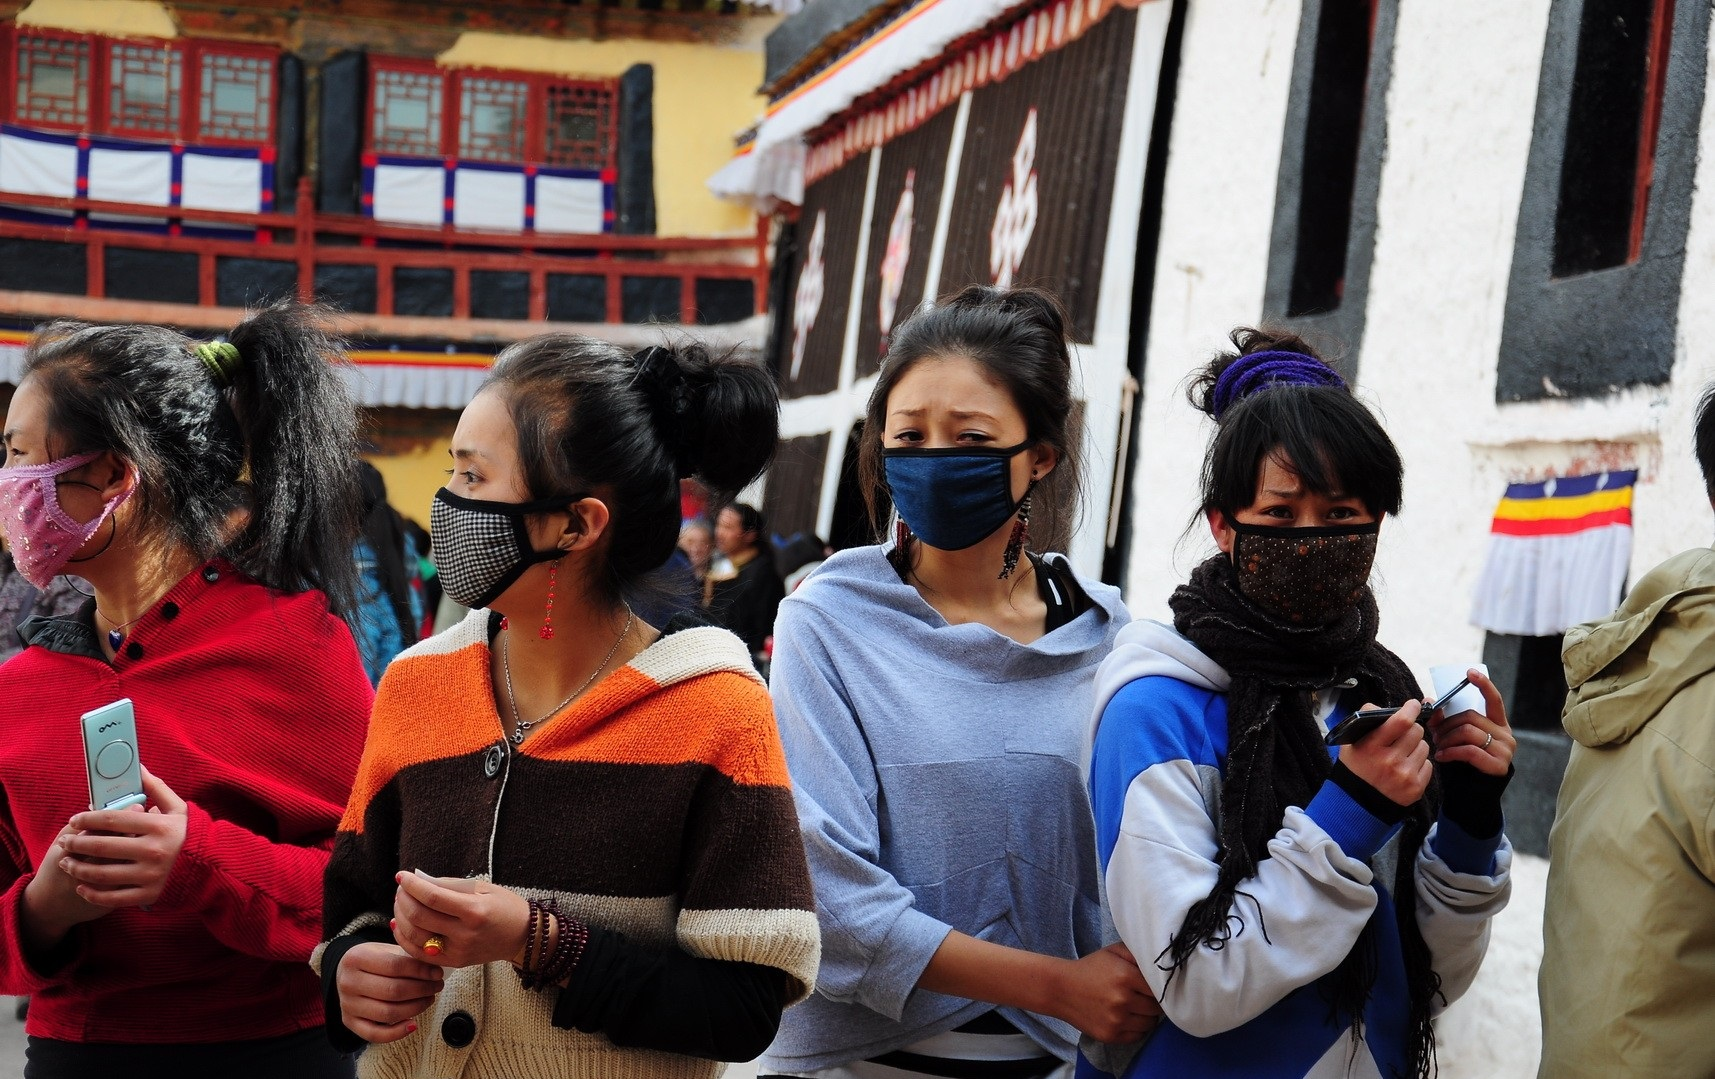face_mask: (426, 389, 548, 611), (881, 364, 1022, 545), (1244, 456, 1379, 608), (1, 402, 81, 582), (712, 512, 748, 546)
